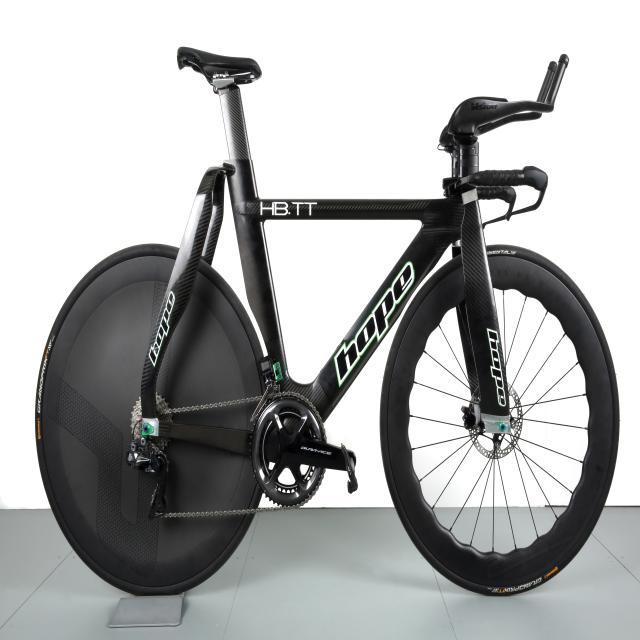TT-bike: (32, 45, 622, 599)
